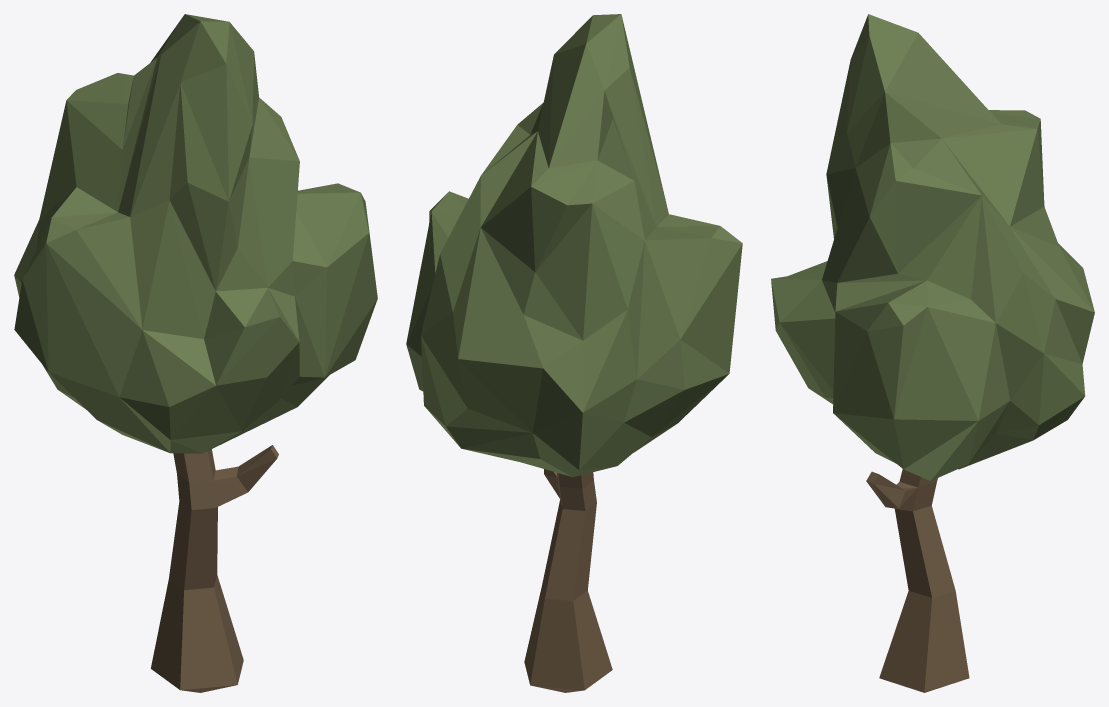
The model's file is SM_Generic_Tree_03.glb.
The picture shows the model from 3 angles, left to right: view 1: azimuth 30°, elevation 25°; view 2: azimuth 150°, elevation 25°; view 3: azimuth 270°, elevation 25°; orthographic projection. The views are drawn at different scales.
Parts seen in each view (by area): view 1: SM_Generic_Tree_03; view 2: SM_Generic_Tree_03; view 3: SM_Generic_Tree_03.
Boxes of the visible parts, x1,y1,x2,y2 form: SM_Generic_Tree_03: [14, 14, 377, 692]; SM_Generic_Tree_03: [406, 14, 742, 692]; SM_Generic_Tree_03: [771, 14, 1094, 692].
Size of the model in its own units: 1.73 by 3.49 by 1.54.
Materials: 1 (1 with a texture image).
